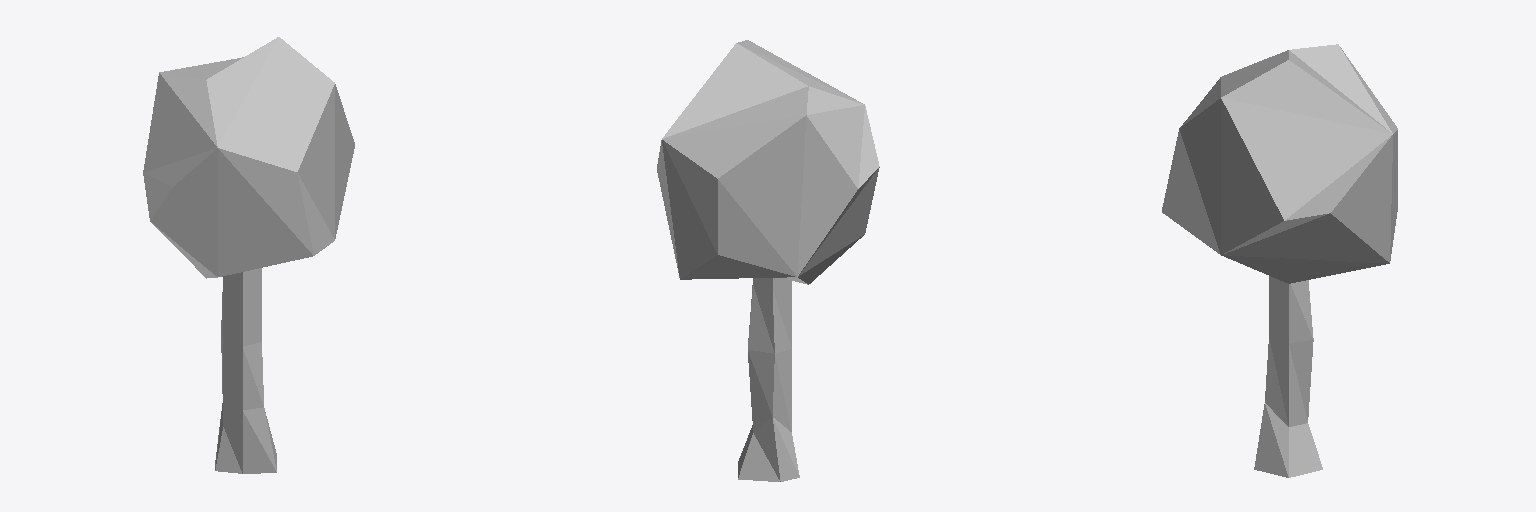
Rendered from trees.obj.
3 views of the same model, side by side, from view 1: azimuth 30°, elevation 25°; view 2: azimuth 150°, elevation 25°; view 3: azimuth 270°, elevation 25° (orthographic).
Visible parts, largest first — view 1: Blad, Stam; view 2: Blad, Stam; view 3: Blad, Stam.
Boxes of the visible parts, box(x1,y1,x2,y2) form: Blad: box(143, 37, 354, 278); Stam: box(215, 268, 276, 473); Blad: box(657, 40, 879, 284); Stam: box(738, 278, 799, 481); Blad: box(1162, 44, 1397, 283); Stam: box(1254, 276, 1322, 477).
Size of the model in its own units: 99.87 by 197 by 101.